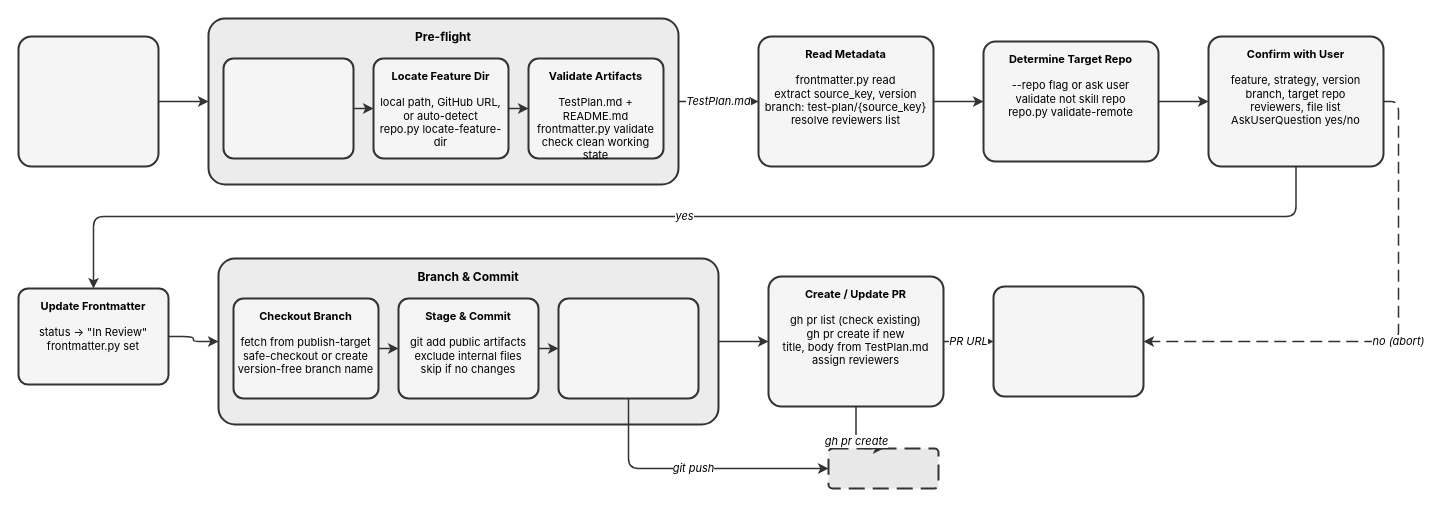
This 1441x506 diagram has some shape labels left out. The shapes that lost their labels are listed below. From the top down, each one's box as (x1, y1, x2, y2) in pixels, then its label:
(17, 35, 159, 167): /test-plan.publish FEATURE_SOURCE --repo owner/repo --reviewers user1,user2
(222, 57, 354, 159): GitHub CLI gh auth status fail if unauthenticated
(557, 297, 699, 399): Push git push publish-target remove temporary remote
(992, 285, 1144, 397): Report PR URL branch, version, status git checkout - (restore)
(827, 447, 939, 489): GitHub
